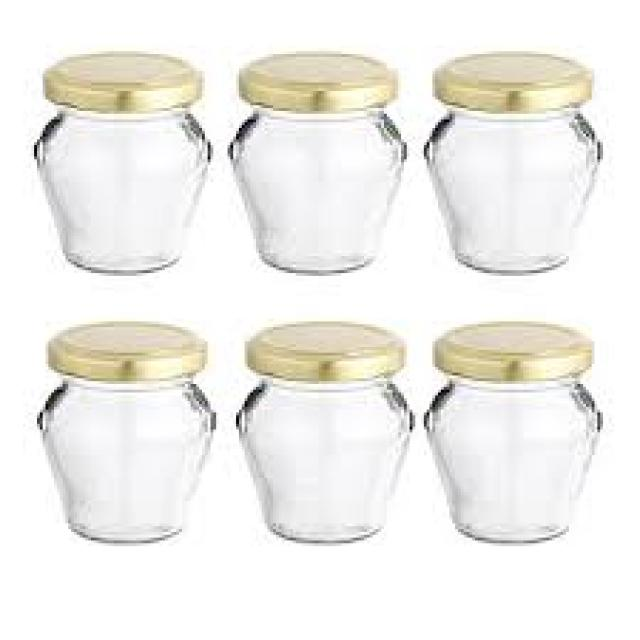glass: (34, 370, 213, 538), (225, 103, 407, 268), (234, 373, 413, 538), (31, 105, 208, 270), (424, 103, 600, 268), (421, 378, 597, 538)
metal: (242, 316, 398, 381), (429, 48, 586, 111), (239, 46, 395, 108), (430, 319, 592, 378), (40, 51, 196, 111), (45, 324, 202, 381)
